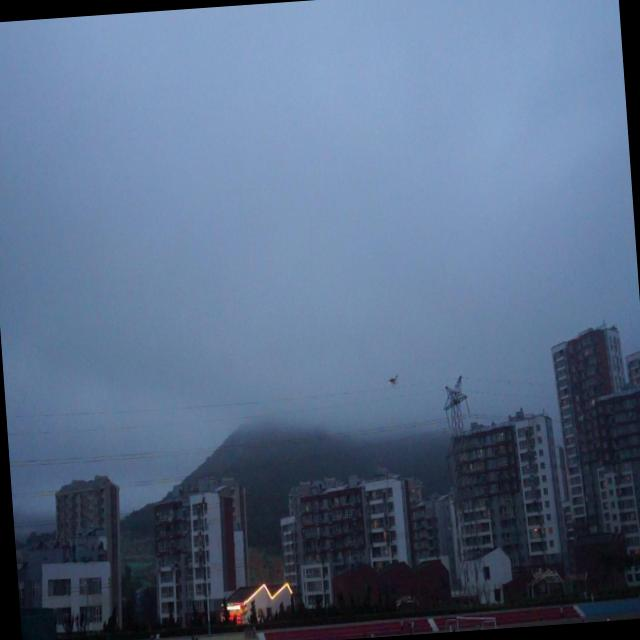drone: (384, 370, 401, 390)
